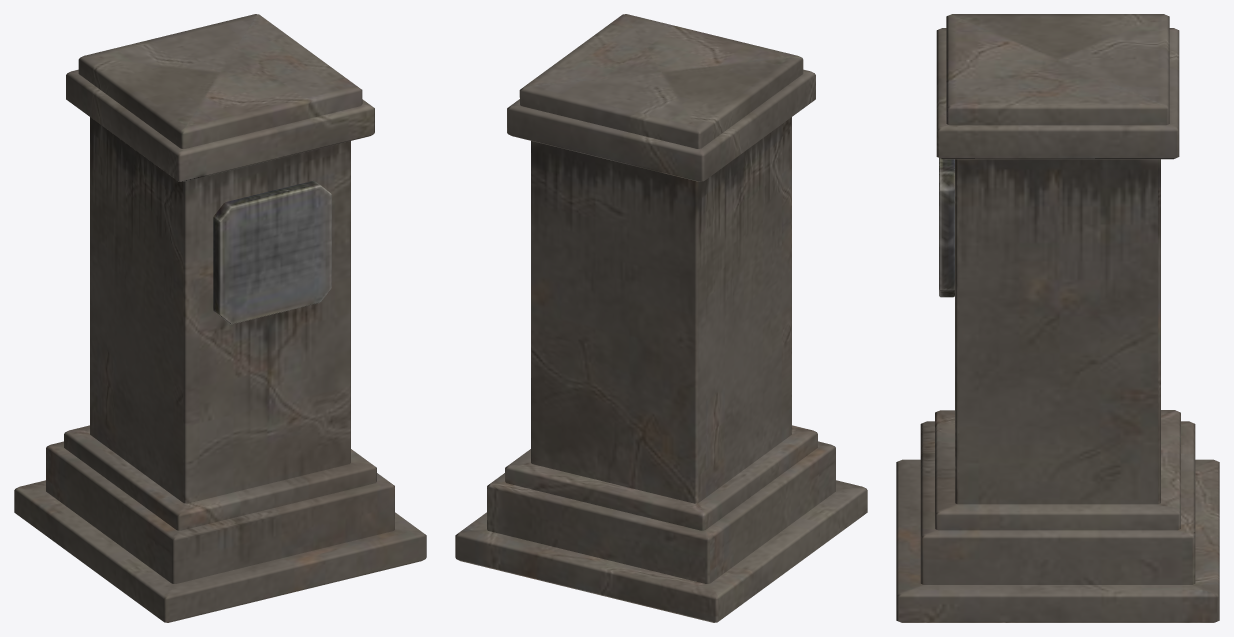
File: SM_Gargoyle_Statue_Stand.glb
3 views of the same model, side by side, from view 1: azimuth 30°, elevation 25°; view 2: azimuth 150°, elevation 25°; view 3: azimuth 270°, elevation 25° (orthographic). The views are drawn at different scales.
Visible parts, largest first — view 1: SM_Gargoyle_Statue_Stand; view 2: SM_Gargoyle_Statue_Stand; view 3: SM_Gargoyle_Statue_Stand.
Boxes of the visible parts, x1,y1,x2,y2 form: SM_Gargoyle_Statue_Stand: [14, 14, 426, 622]; SM_Gargoyle_Statue_Stand: [455, 14, 867, 622]; SM_Gargoyle_Statue_Stand: [896, 14, 1219, 622].
Bounding box in the file's own units: 0.5943 × 1 × 0.5943.
Materials: 1 (1 with a texture image).
